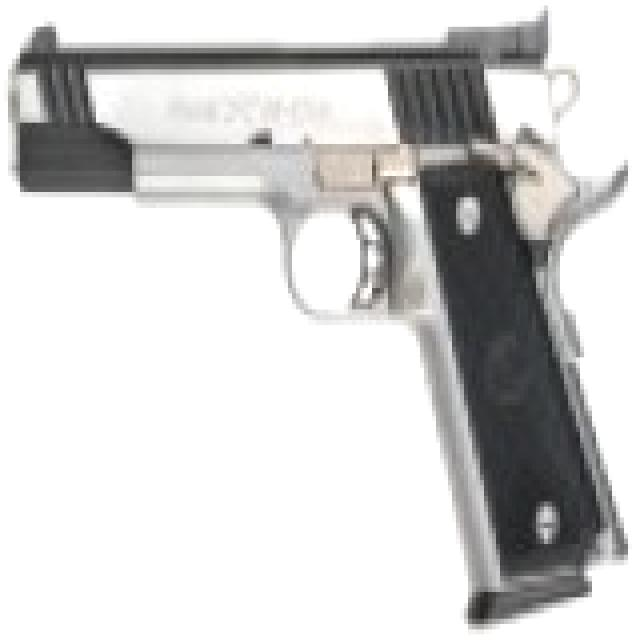pistol: (8, 11, 624, 613)
